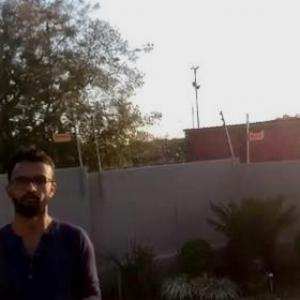follow: (1, 140, 97, 299)
